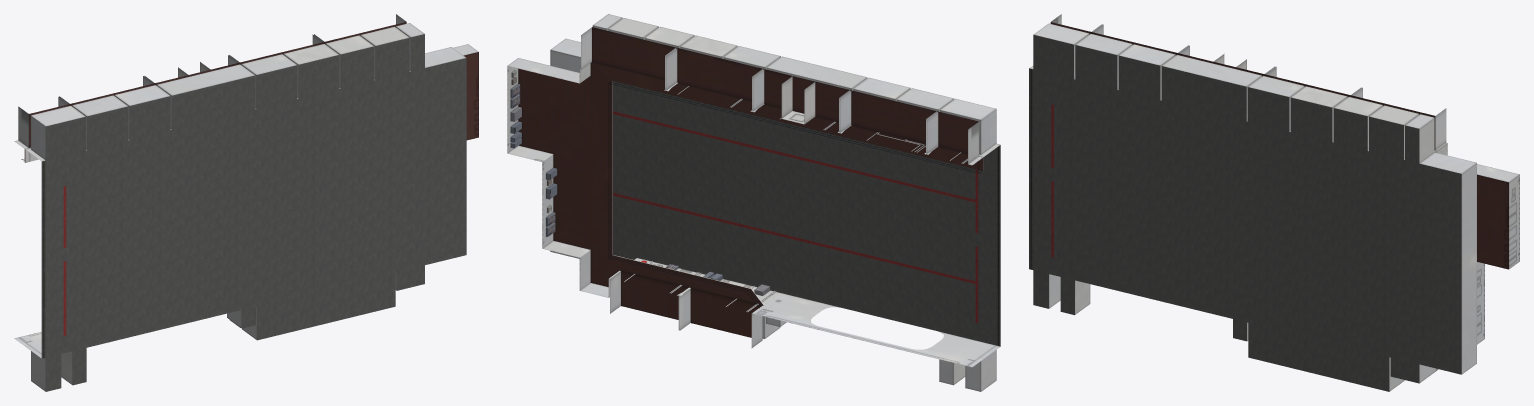
File: hangarAR.fbx
3 views of the same model, side by side, from view 1: azimuth 30°, elevation 25°; view 2: azimuth 150°, elevation 25°; view 3: azimuth 330°, elevation 25° (orthographic). The views are drawn at different scales.
Parts seen in each view (by area): view 1: ShapeIndexedFaceSet_006, ShapeIndexedFaceSet, ShapeIndexedFaceSet_007, ShapeIndexedFaceSet_001; view 2: ShapeIndexedFaceSet_006, ShapeIndexedFaceSet, ShapeIndexedFaceSet_001, ShapeIndexedFaceSet_005, ShapeIndexedFaceSet_007, ShapeIndexedFaceSet_010, ShapeIndexedFaceSet_004; view 3: ShapeIndexedFaceSet_006, ShapeIndexedFaceSet, ShapeIndexedFaceSet_007.
Boxes of the visible parts, left/top/right/bottom form: ShapeIndexedFaceSet_006: left=46, top=34, right=466, bottom=391; ShapeIndexedFaceSet: left=14, top=14, right=478, bottom=391; ShapeIndexedFaceSet_007: left=41, top=160, right=45, bottom=358; ShapeIndexedFaceSet_001: left=63, top=186, right=66, bottom=335; ShapeIndexedFaceSet_006: left=613, top=81, right=996, bottom=345; ShapeIndexedFaceSet: left=507, top=14, right=1000, bottom=391; ShapeIndexedFaceSet_001: left=510, top=111, right=978, bottom=323; ShapeIndexedFaceSet_005: left=510, top=70, right=770, bottom=295; ShapeIndexedFaceSet_007: left=996, top=145, right=1000, bottom=346; ShapeIndexedFaceSet_010: left=781, top=76, right=815, bottom=124; ShapeIndexedFaceSet_004: left=624, top=86, right=967, bottom=312; ShapeIndexedFaceSet_006: left=1033, top=34, right=1461, bottom=391; ShapeIndexedFaceSet: left=1029, top=14, right=1519, bottom=391; ShapeIndexedFaceSet_007: left=1029, top=68, right=1033, bottom=269.
Size of the model in its own units: 70.89 by 39.6 by 7.5.
